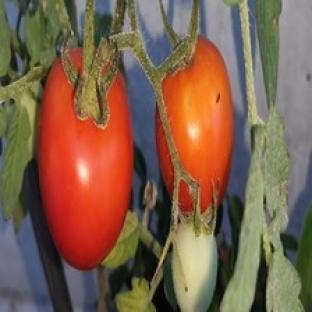Tomato: (38, 59, 132, 270), (162, 35, 233, 211), (172, 223, 217, 311)
